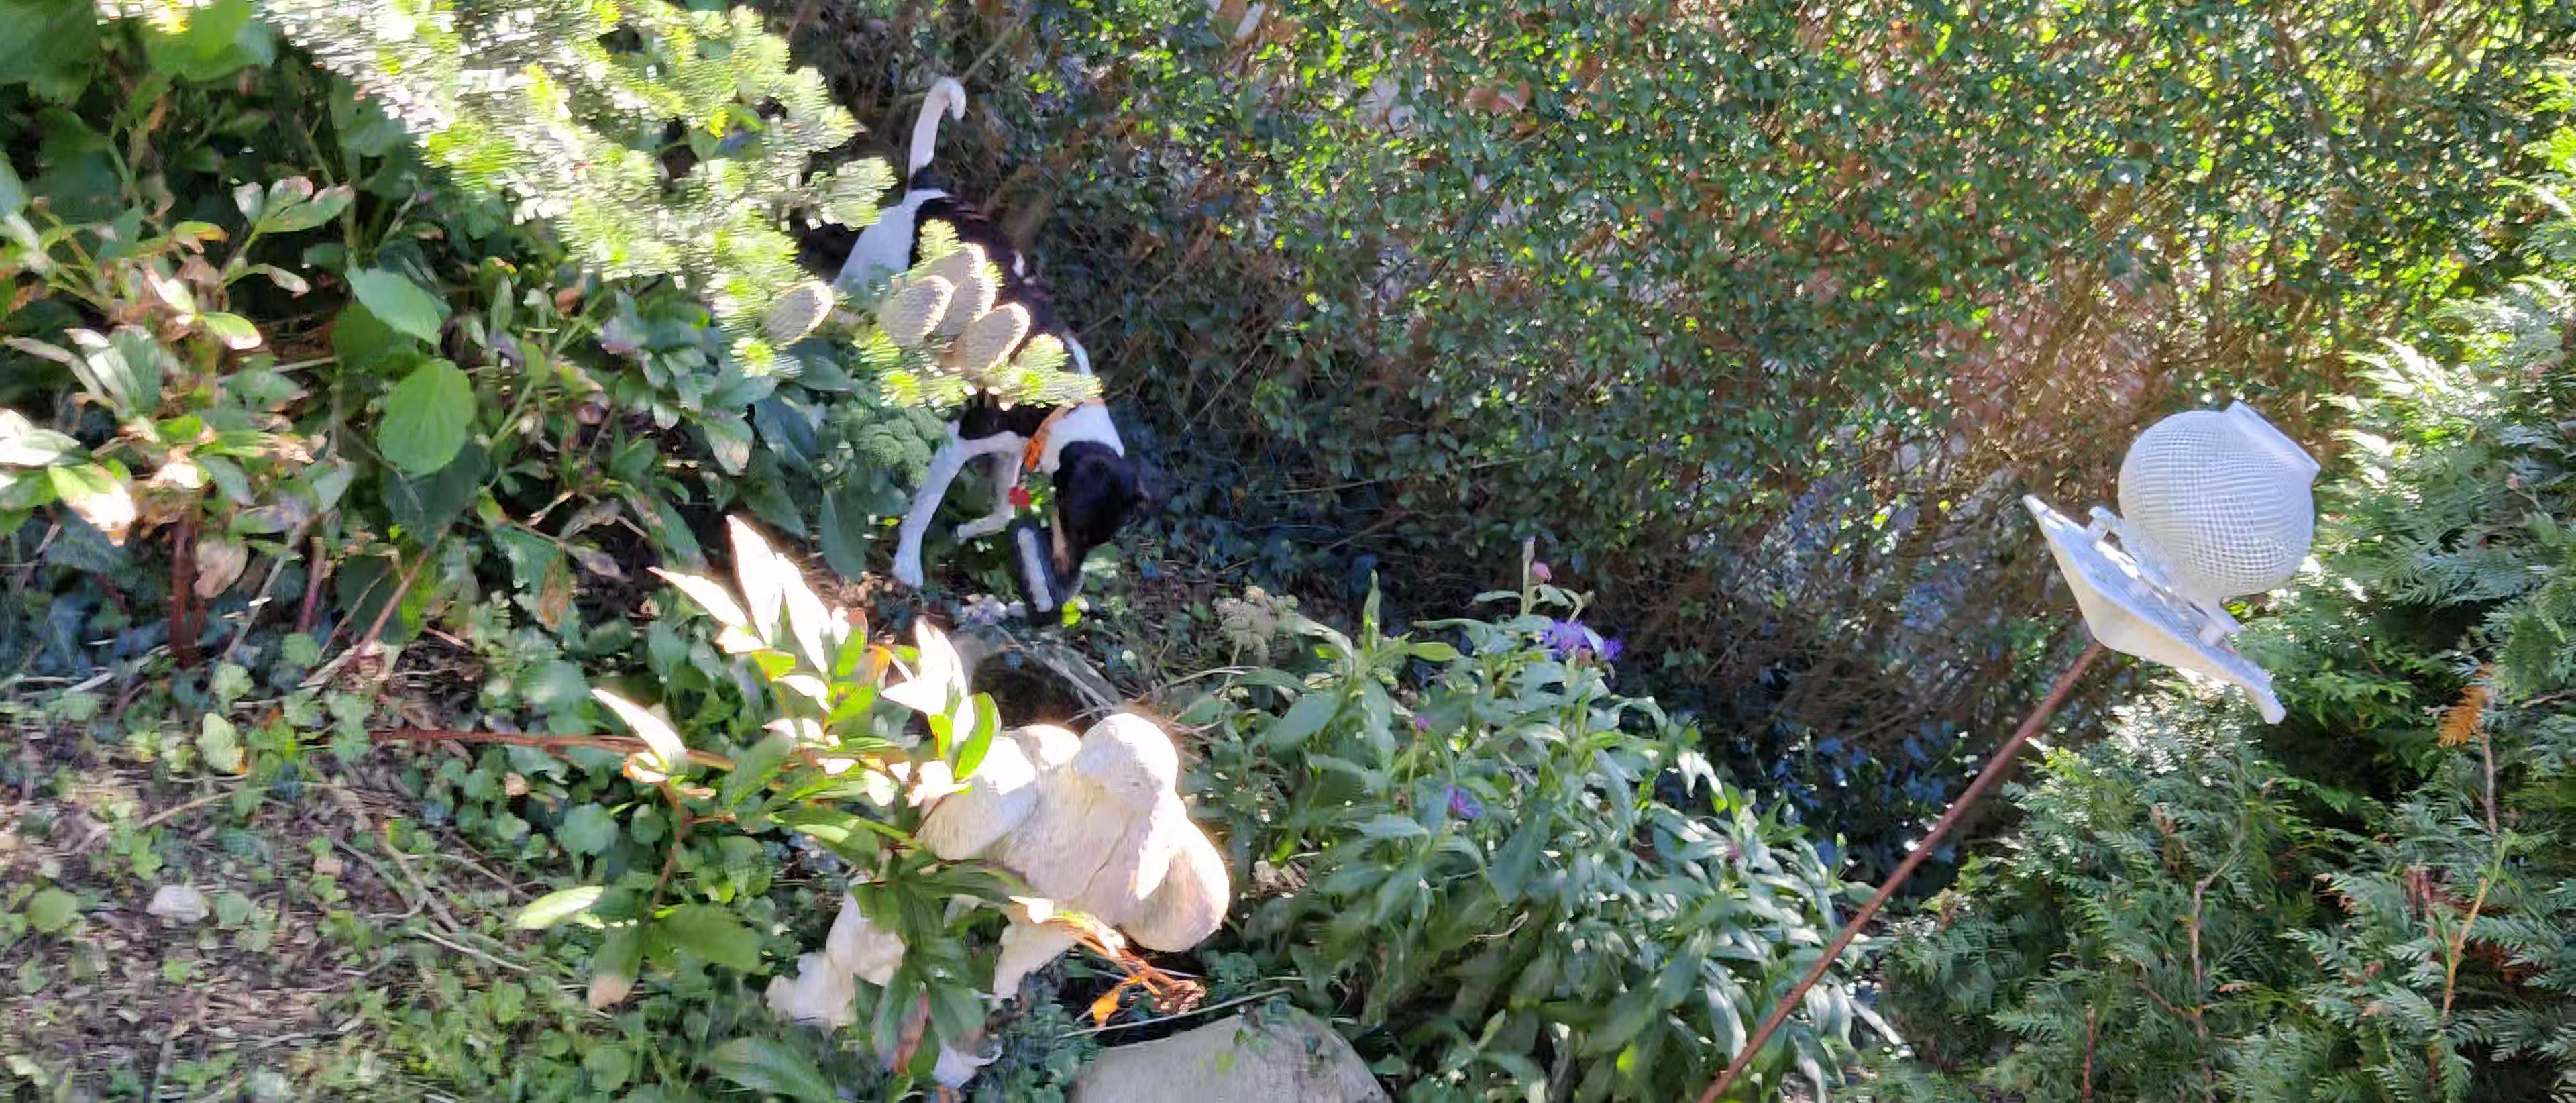Dog: (810, 74, 1175, 595)
